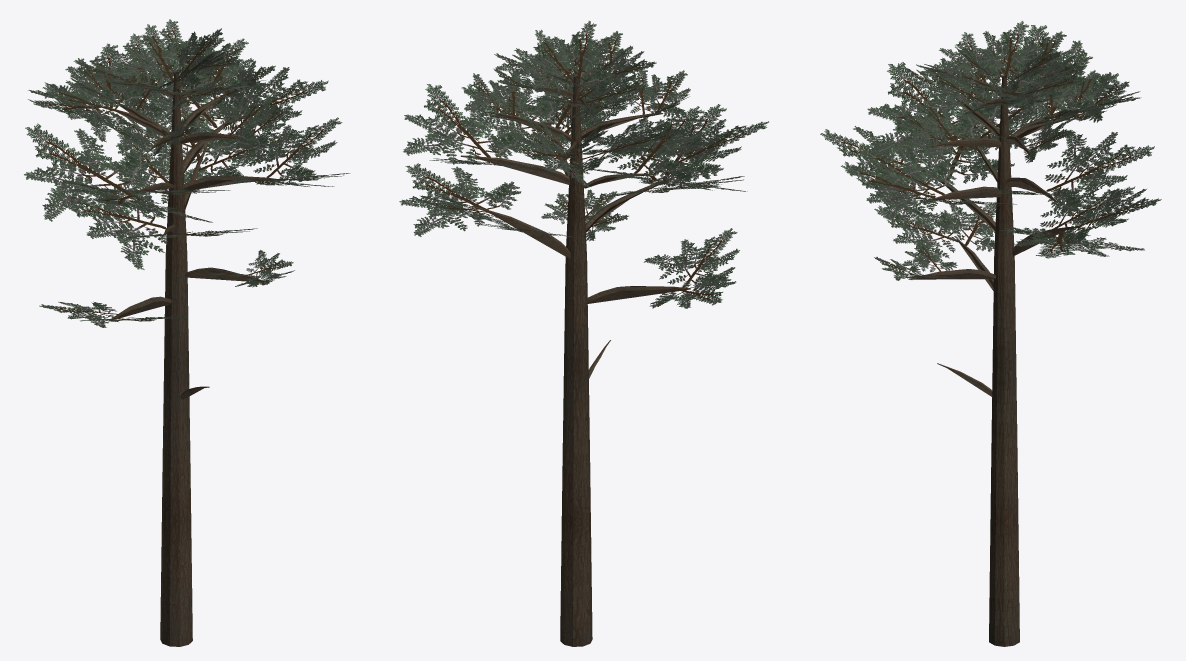
File: Tree02.fbx
The picture shows the model from 3 angles, left to right: view 1: azimuth 30°, elevation 25°; view 2: azimuth 150°, elevation 25°; view 3: azimuth 270°, elevation 25°; orthographic projection.
Visible parts, largest first — view 1: Tree2; view 2: Tree2; view 3: Tree2.
Boxes of the visible parts, <box> form: Tree2: <box>24,19,350,646</box>; Tree2: <box>399,21,768,646</box>; Tree2: <box>820,21,1161,646</box>.
Bounding box in the file's own units: 10.06 × 17.97 × 9.79.
